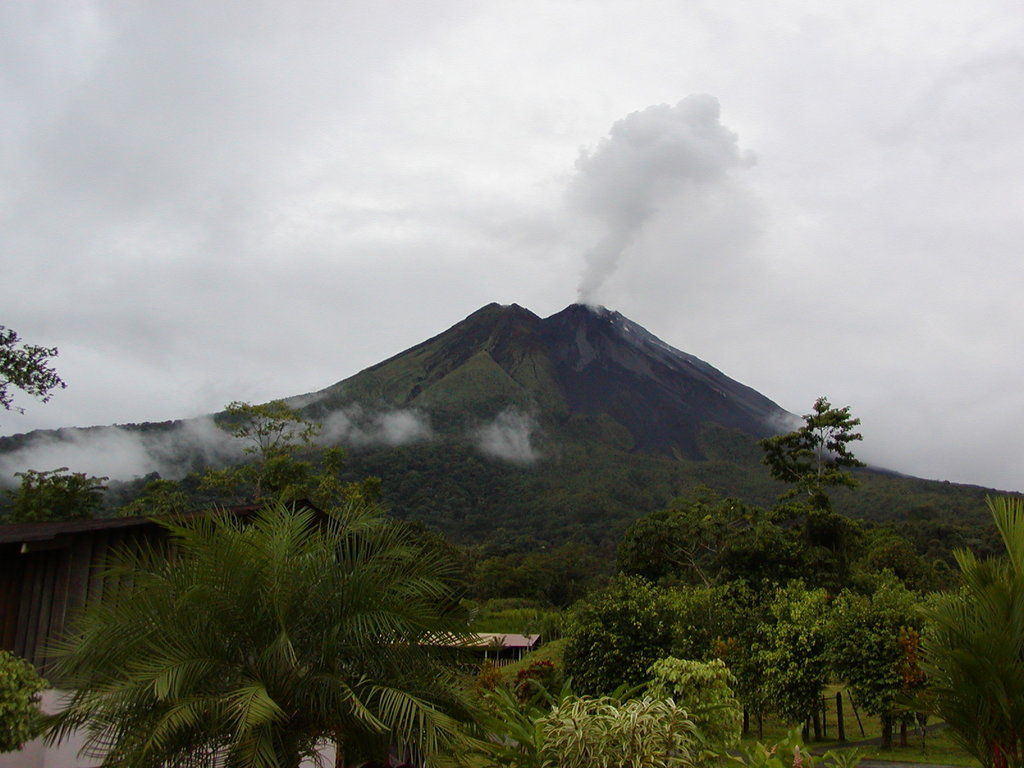Tree: (56, 446, 515, 747), (129, 398, 396, 607), (728, 583, 873, 742), (822, 582, 954, 746), (562, 574, 704, 726), (627, 493, 769, 622), (663, 582, 769, 743), (755, 399, 857, 546), (762, 490, 862, 611), (857, 516, 983, 609), (0, 320, 66, 411)
